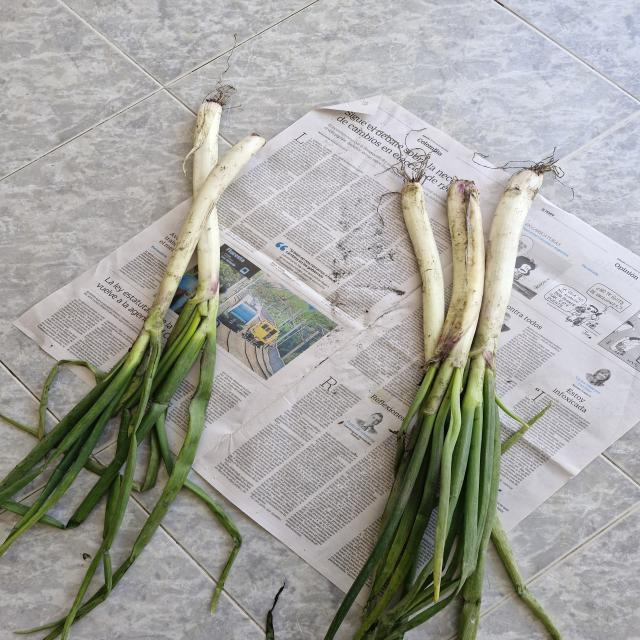green_onion: (3, 122, 273, 552), (422, 155, 547, 630)
